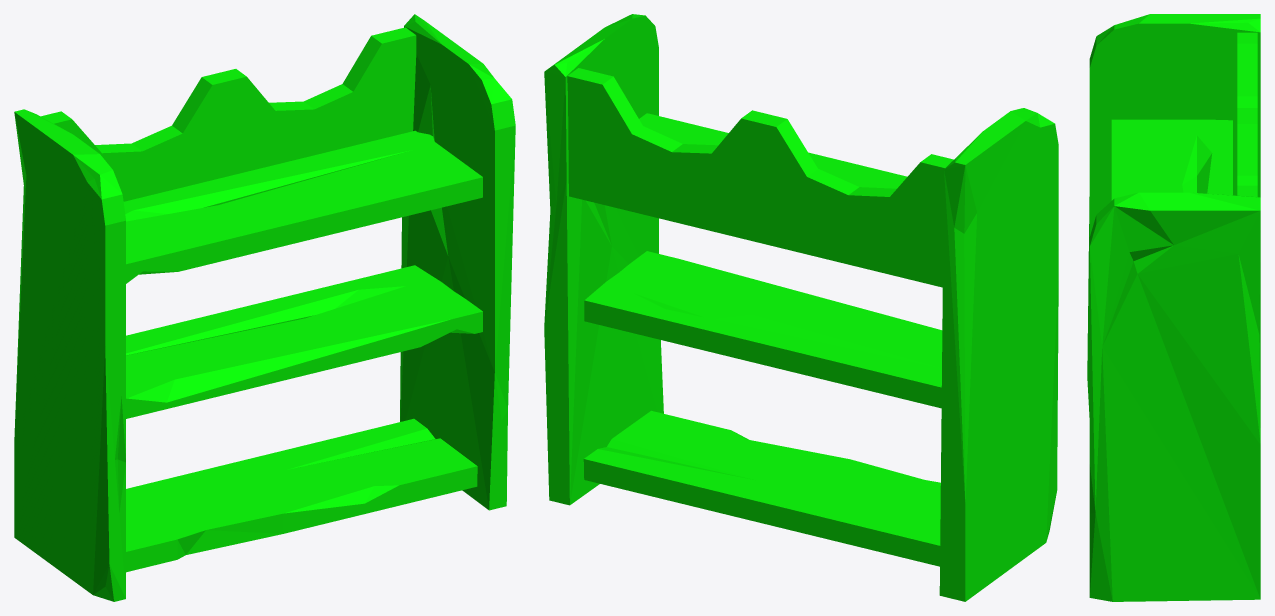
Rendered from SM_Shelf_Wall_A_Fantasy.fbx.
3 renders of one model, left to right at view 1: azimuth 30°, elevation 25°; view 2: azimuth 150°, elevation 25°; view 3: azimuth 270°, elevation 25°, orthographic. The views are drawn at different scales.
Parts seen in each view (by area): view 1: shelf-wall-a-fantasy; view 2: shelf-wall-a-fantasy; view 3: shelf-wall-a-fantasy.
Boxes of the visible parts, bbox=[...] form: shelf-wall-a-fantasy: bbox=[14, 14, 515, 601]; shelf-wall-a-fantasy: bbox=[544, 14, 1058, 601]; shelf-wall-a-fantasy: bbox=[1087, 14, 1260, 601].
Size of the model in its own units: 0.5293 by 0.5247 by 0.2062.
